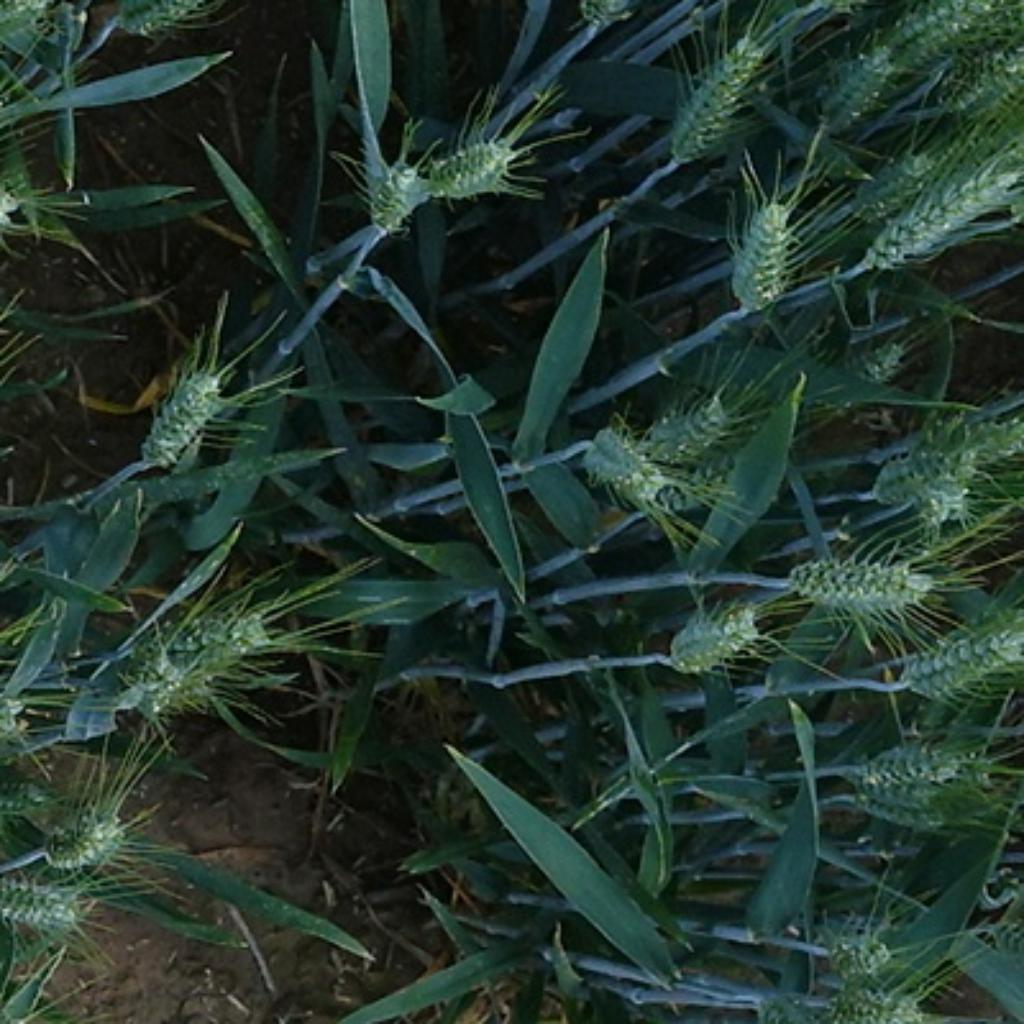0-0: (118, 594, 274, 730), (860, 171, 1024, 278), (655, 20, 770, 166), (834, 719, 998, 801), (780, 542, 936, 619), (893, 609, 1021, 701), (716, 189, 803, 317), (862, 2, 995, 84), (136, 366, 232, 473), (626, 395, 734, 490), (657, 588, 773, 675), (860, 440, 979, 517), (417, 134, 542, 205), (808, 40, 906, 128), (847, 785, 977, 847), (849, 143, 947, 222), (570, 420, 667, 499), (38, 793, 133, 872), (795, 919, 899, 990), (0, 862, 87, 942), (358, 145, 432, 238), (629, 458, 731, 524), (806, 972, 921, 1024), (932, 412, 1024, 470), (852, 335, 908, 399), (0, 680, 46, 757)
